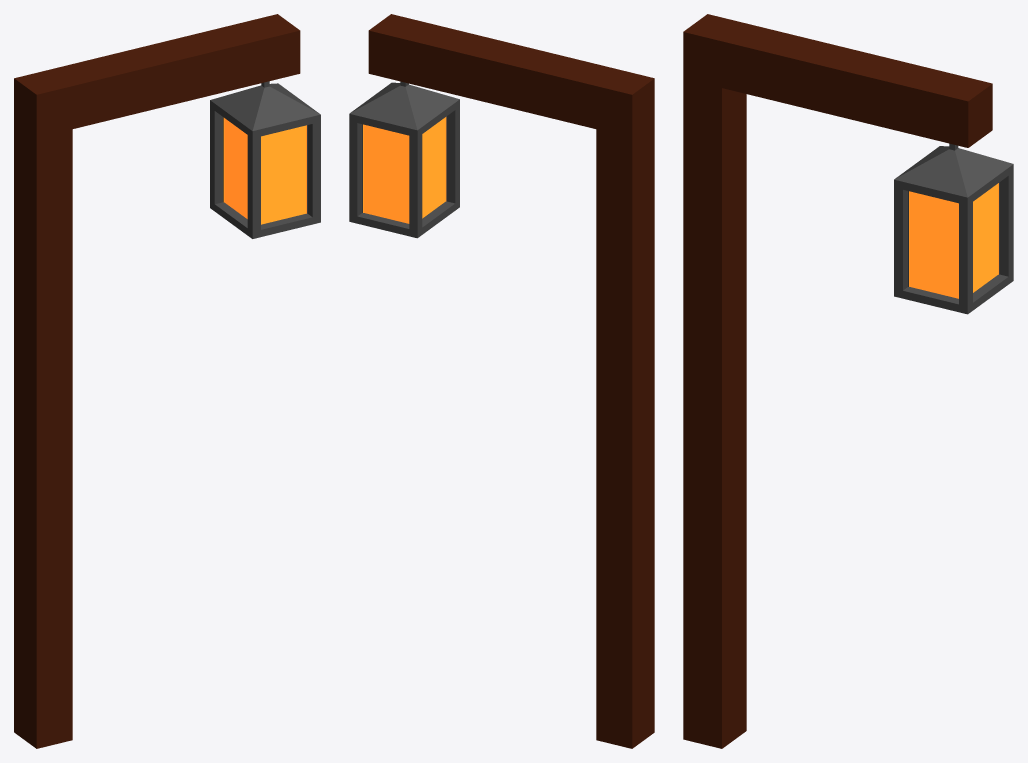
The model's file is Lantern.fbx.
3 renders of one model, left to right at view 1: azimuth 30°, elevation 25°; view 2: azimuth 150°, elevation 25°; view 3: azimuth 330°, elevation 25°, orthographic. The views are drawn at different scales.
Visible parts, largest first — view 1: Box004, Box006; view 2: Box004, Box006; view 3: Box004, Box006.
Boxes of the visible parts, <box> form: Box004: <box>14,14,300,748</box>; Box006: <box>210,81,320,238</box>; Box004: <box>368,14,654,748</box>; Box006: <box>349,81,459,238</box>; Box004: <box>683,14,992,748</box>; Box006: <box>894,143,1013,314</box>.
Bounding box in the file's own units: 12.55 × 28.67 × 3.38.
